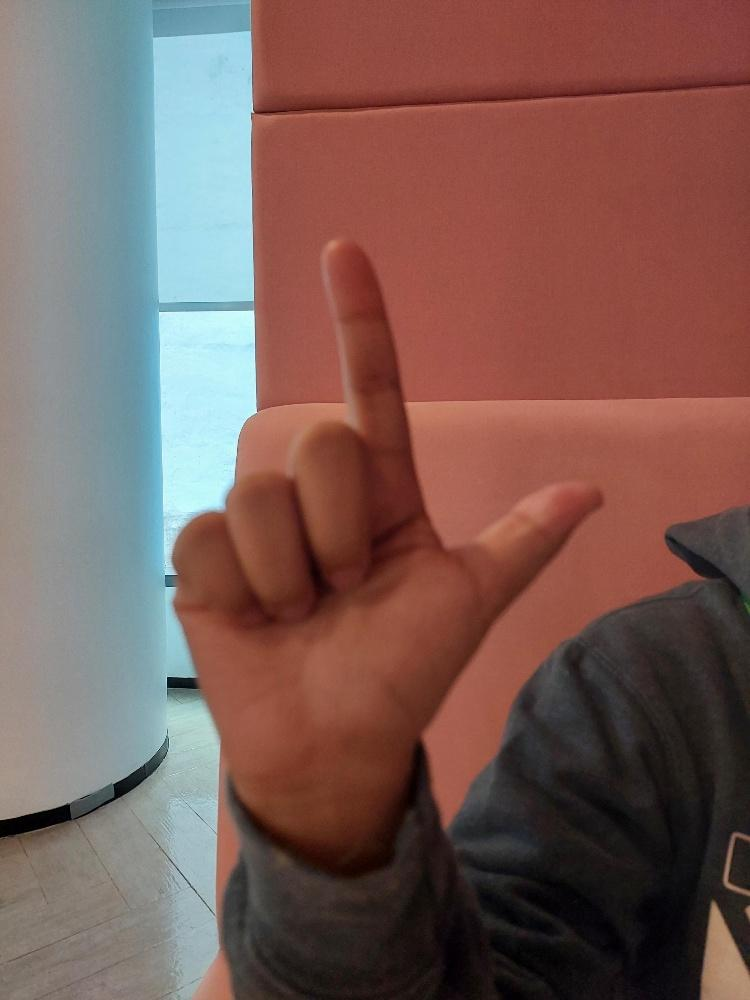l: (165, 225, 609, 802)
